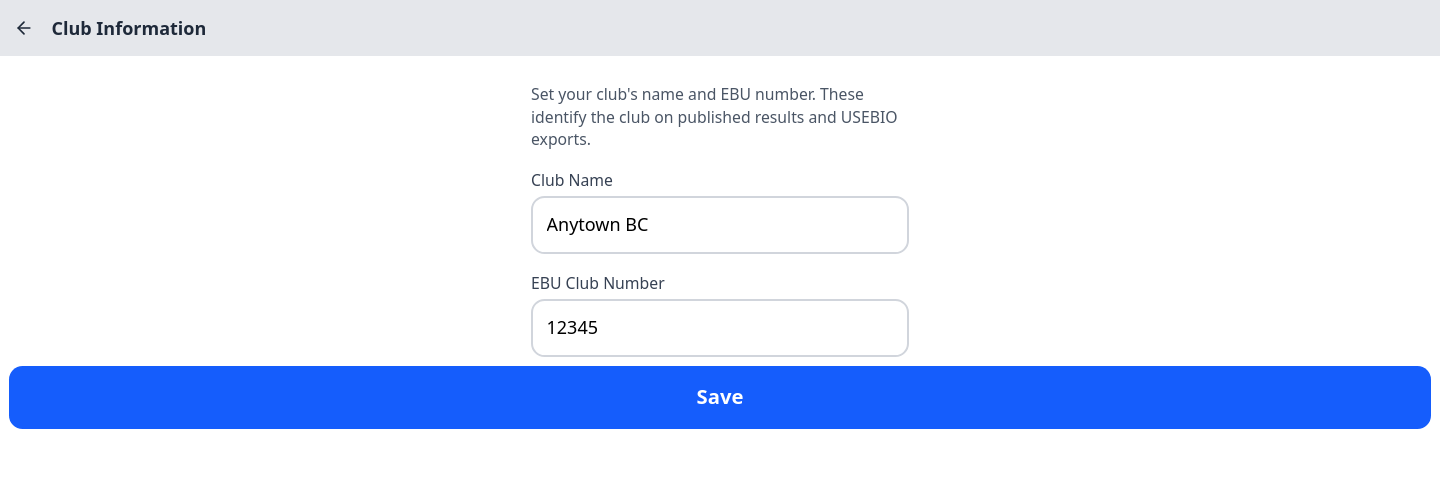
it: ClubSettingsPage › saves with the admin token and revalidates on success
This screenshot has width=1440, height=491.
Replace the text in the field labelled "Club Name" with "New Club". click: (720, 224)
box: top-left (531, 196), bottom-right (909, 254)
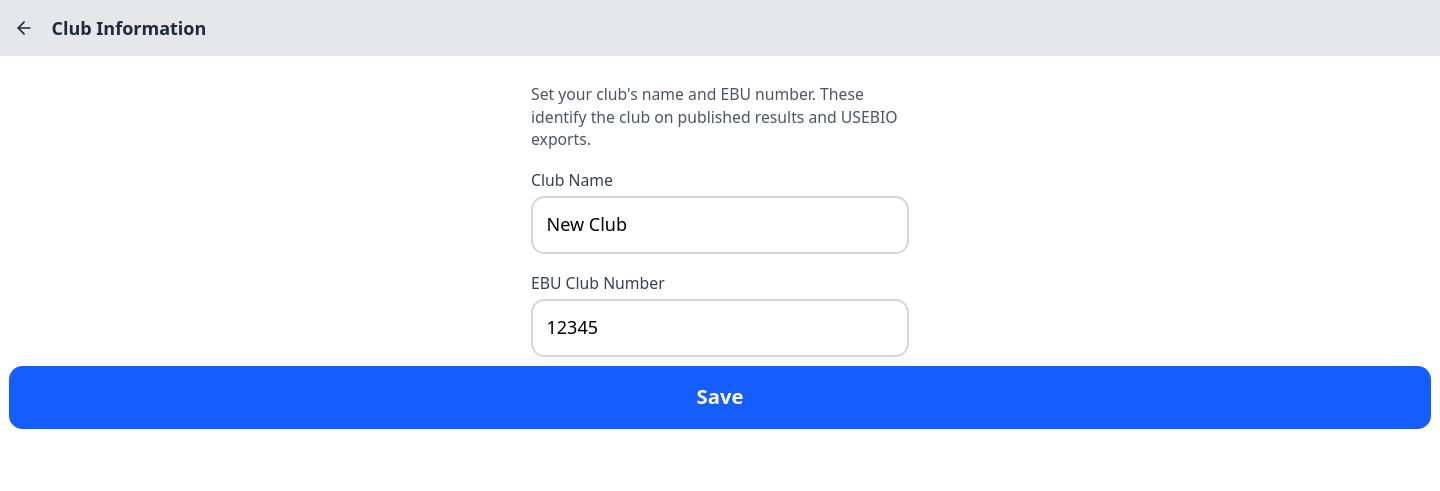
Replace the text in the field labelled "EBU Club Number" with "555". click: (720, 328)
box: top-left (531, 298), bottom-right (909, 356)
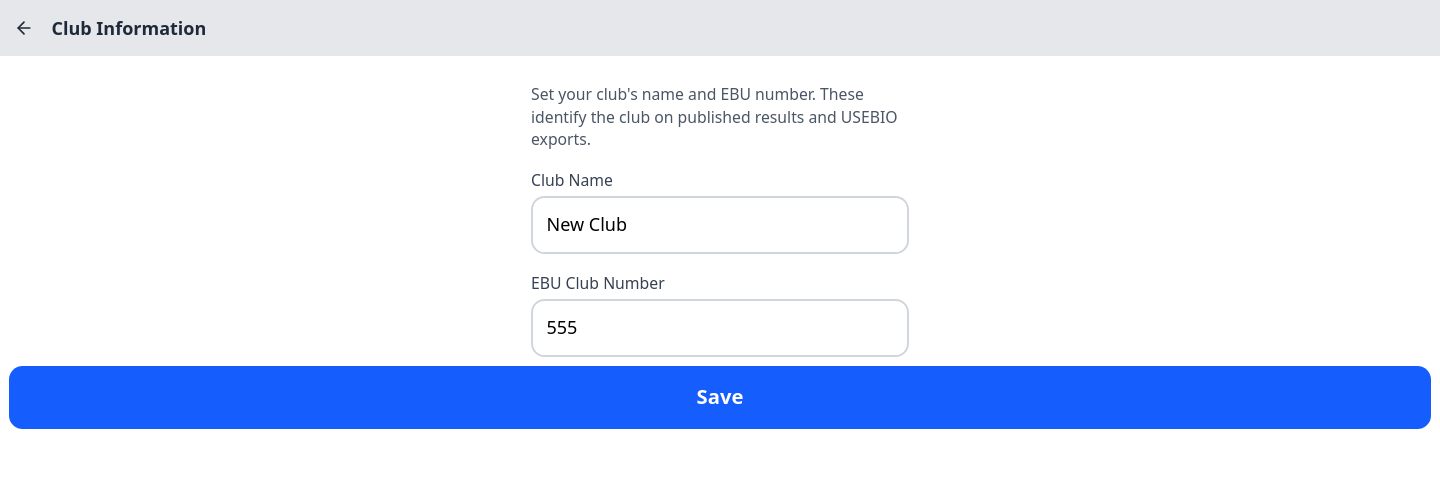
Click the button "Save". click: (720, 397)
box: top-left (9, 366), bottom-right (1431, 428)
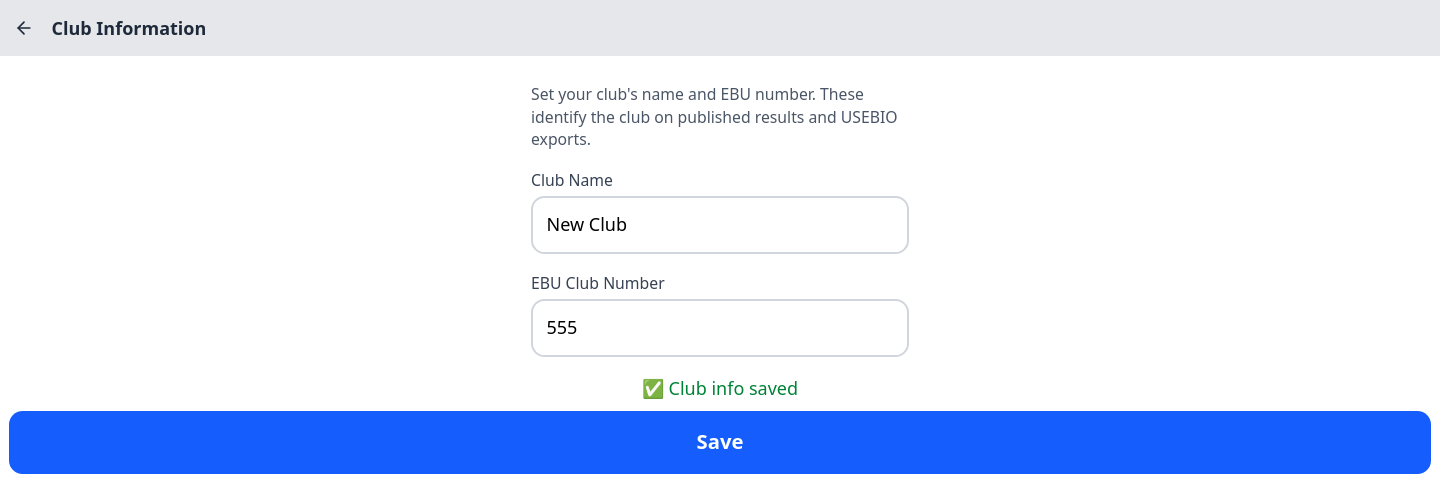
Expected: the text "✅ Club info saved" is shown, top-left (642, 376), bottom-right (798, 400)
